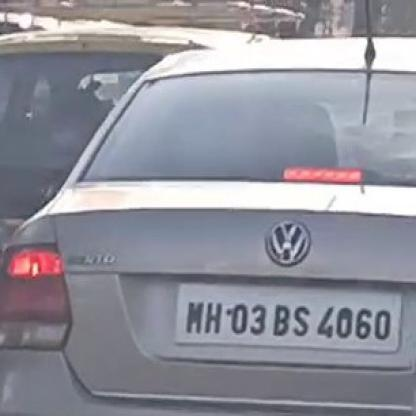license_plate: (174, 280, 402, 351)
